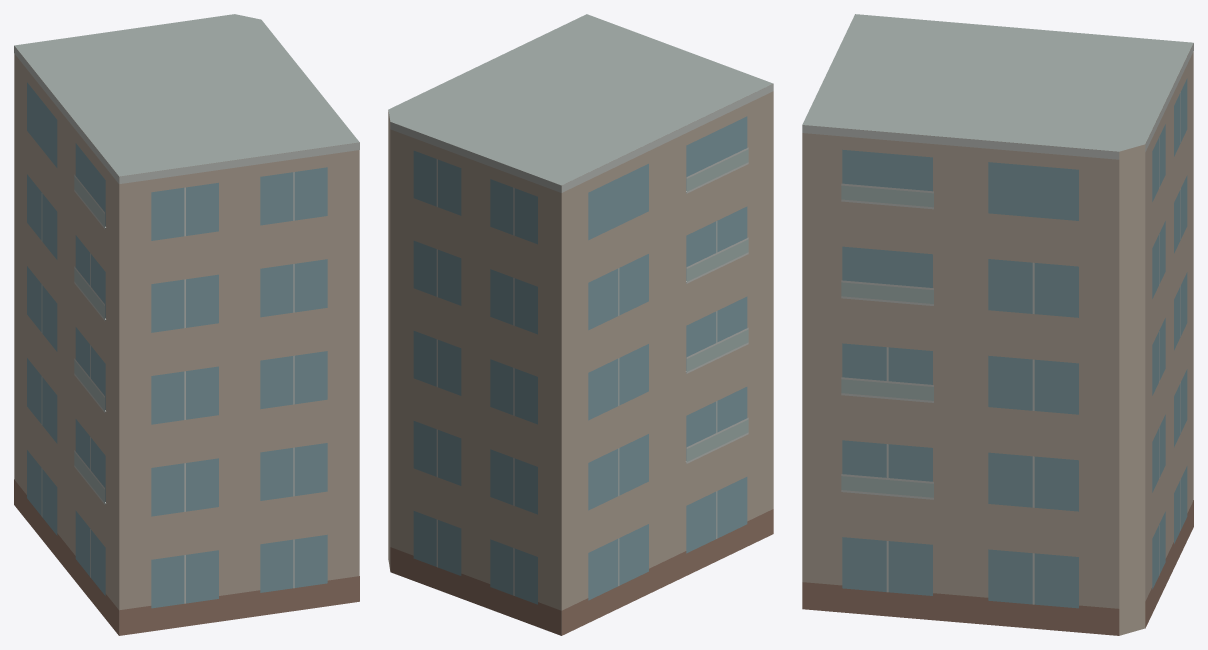
File: survey-upis-32789421.glb
3 renders of one model, left to right at view 1: azimuth 30°, elevation 25°; view 2: azimuth 150°, elevation 25°; view 3: azimuth 270°, elevation 25°, orthographic. The views are drawn at different scales.
Visible parts, largest first — view 1: survey-upis-32789421.tmp; view 2: survey-upis-32789421.tmp; view 3: survey-upis-32789421.tmp.
Boxes of the visible parts, bbox=[...] form: survey-upis-32789421.tmp: bbox=[14, 14, 359, 635]; survey-upis-32789421.tmp: bbox=[388, 14, 773, 635]; survey-upis-32789421.tmp: bbox=[802, 14, 1193, 635].
Size of the model in its own units: 8.91 by 14.6 by 10.71.
